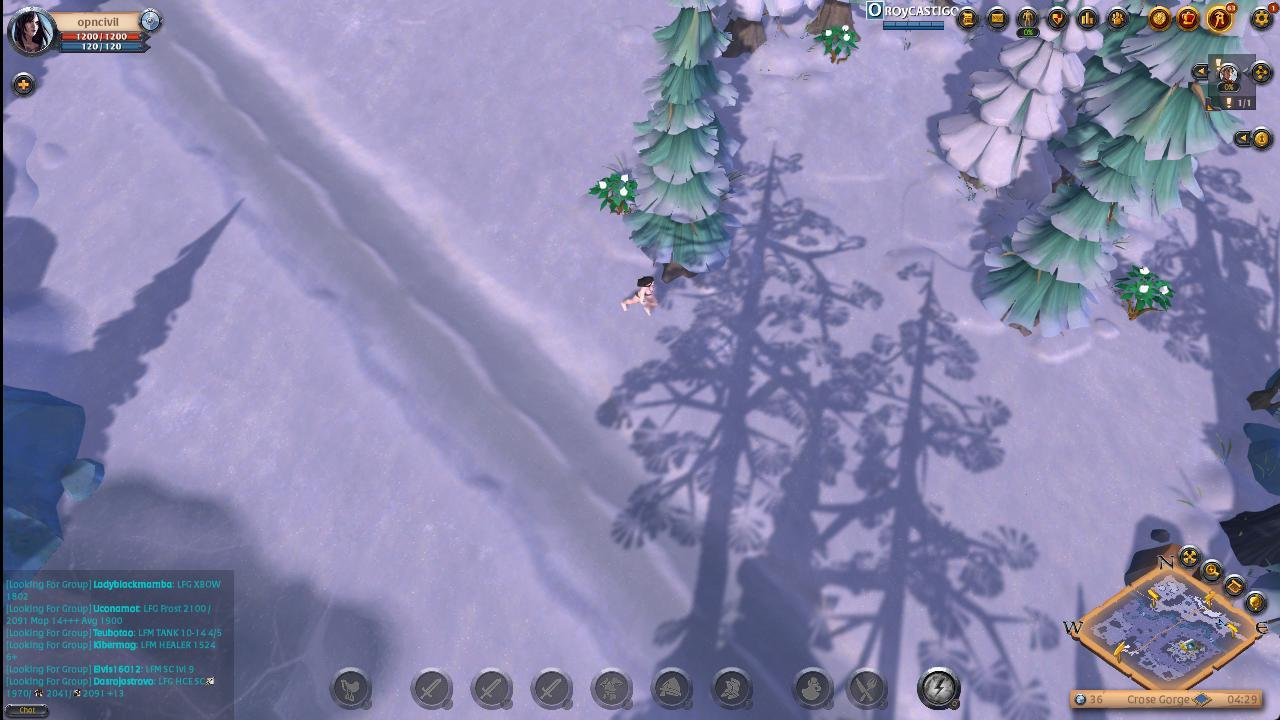flax: (1109, 263, 1181, 331), (587, 166, 642, 220), (811, 21, 866, 66)
